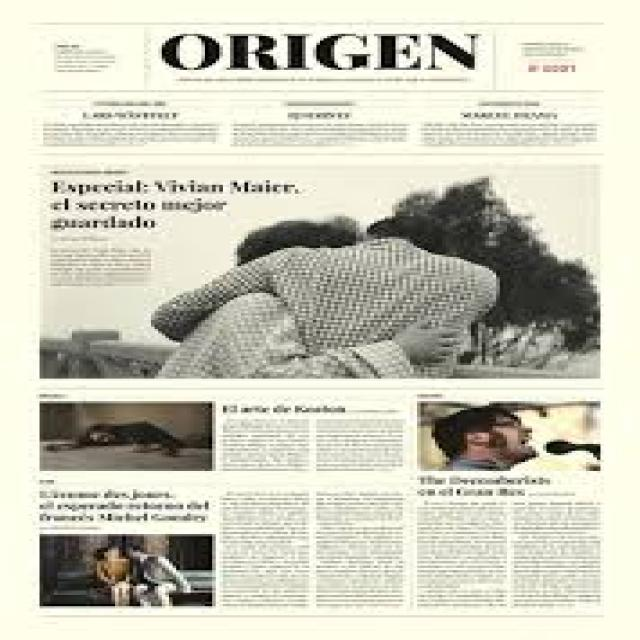paper: (13, 14, 623, 640)
